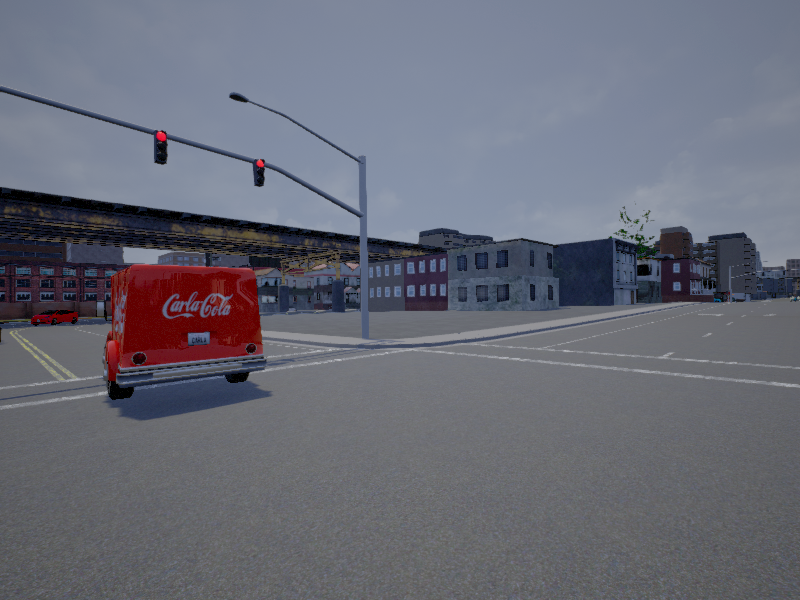Benign: (101, 268, 266, 404), (31, 311, 79, 327)
